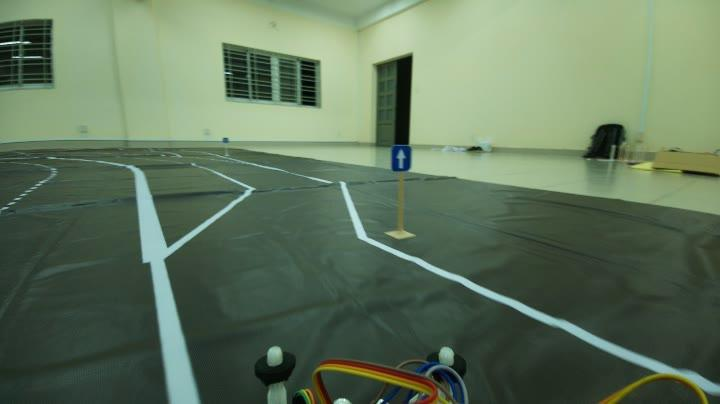onewayroad: (392, 145, 412, 173)
